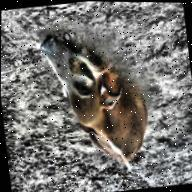boar: (29, 2, 174, 187)
